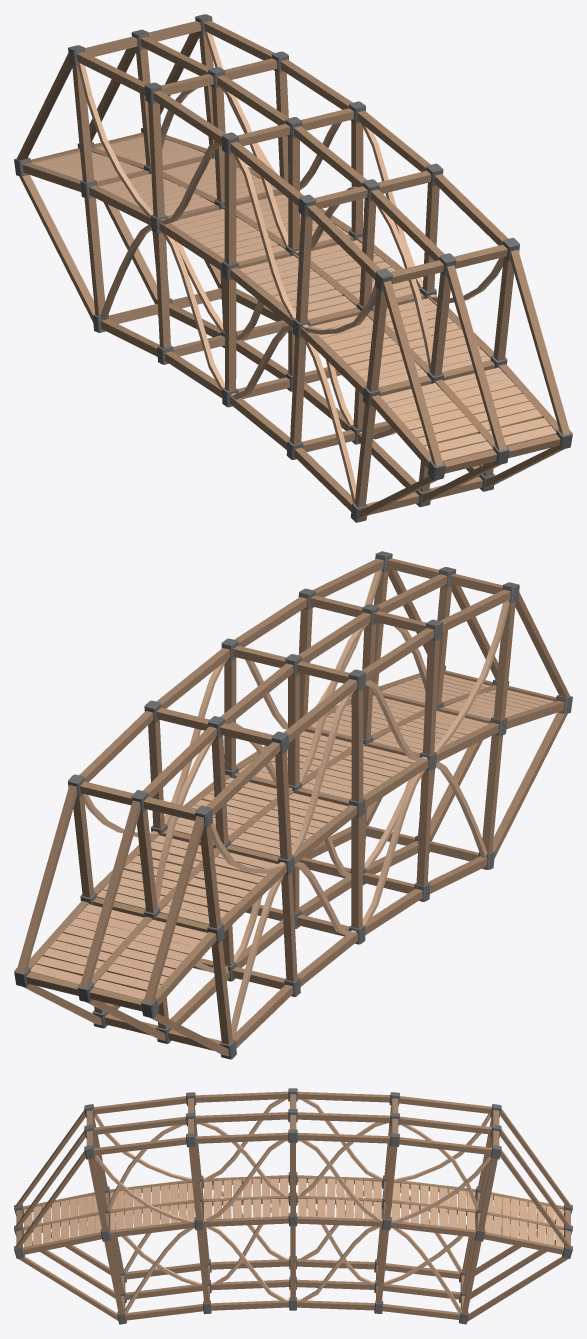
File: big_bridge_01.fbx
3 views of the same model, one above another, from view 1: azimuth 30°, elevation 25°; view 2: azimuth 150°, elevation 25°; view 3: azimuth 270°, elevation 25° (orthographic). The views are drawn at different scales.
Parts seen in each view (by area): view 1: curvy_bois, pCube90, pCube91, pCube92, pCube26, pCube77, pCube71, pCube32, pCube31, pCube118, pCube33, pCube117 (+57 smaller); view 2: curvy_bois, pCube62, pCube60, pCube61, pCube59, pCube77, pCube83, pCube114, pCube29, pCube30, pCube28, pCube115 (+57 smaller); view 3: curvy_bois, pCube73, pCube78, pCube80, pCube79, pCube74, pCube72, pCube66, pCube67, pCube84, pCube86, pCube68 (+46 smaller).
Part boxes in pixels (<box>): curvy_bois: <box>78,32,503,502</box>; pCube90: <box>510,249,570,435</box>; pCube91: <box>446,265,506,450</box>; pCube92: <box>383,280,443,466</box>; pCube26: <box>19,175,94,322</box>; pCube77: <box>224,152,236,264</box>; pCube71: <box>148,102,164,217</box>; pCube32: <box>154,232,170,348</box>; pCube31: <box>84,197,105,316</box>; pCube118: <box>390,244,507,284</box>; pCube33: <box>224,279,236,391</box>; pCube117: <box>314,170,431,209</box>; curvy_bois: <box>84,569,509,1039</box>; pCube62: <box>143,816,204,1003</box>; pCube60: <box>80,800,140,988</box>; pCube61: <box>16,785,77,972</box>; pCube59: <box>492,712,567,858</box>; pCube77: <box>351,689,363,801</box>; pCube83: <box>423,639,439,754</box>; pCube114: <box>80,781,196,820</box>; pCube29: <box>482,735,502,853</box>; pCube30: <box>416,770,433,885</box>; pCube28: <box>26,972,142,1011</box>; pCube115: <box>156,707,273,745</box>; curvy_bois: <box>94,1099,491,1314</box>; pCube73: <box>297,1091,390,1102</box>; pCube78: <box>195,1112,288,1123</box>; pCube80: <box>195,1091,288,1102</box>; pCube79: <box>195,1132,288,1143</box>; pCube74: <box>297,1112,390,1122</box>; pCube72: <box>297,1132,390,1143</box>; pCube66: <box>399,1137,491,1154</box>; pCube67: <box>399,1096,491,1113</box>; pCube84: <box>94,1137,186,1155</box>; pCube86: <box>94,1116,186,1134</box>; pCube68: <box>399,1116,491,1134</box>.
Size of the model in its own units: 1510 by 3018 by 7977.
